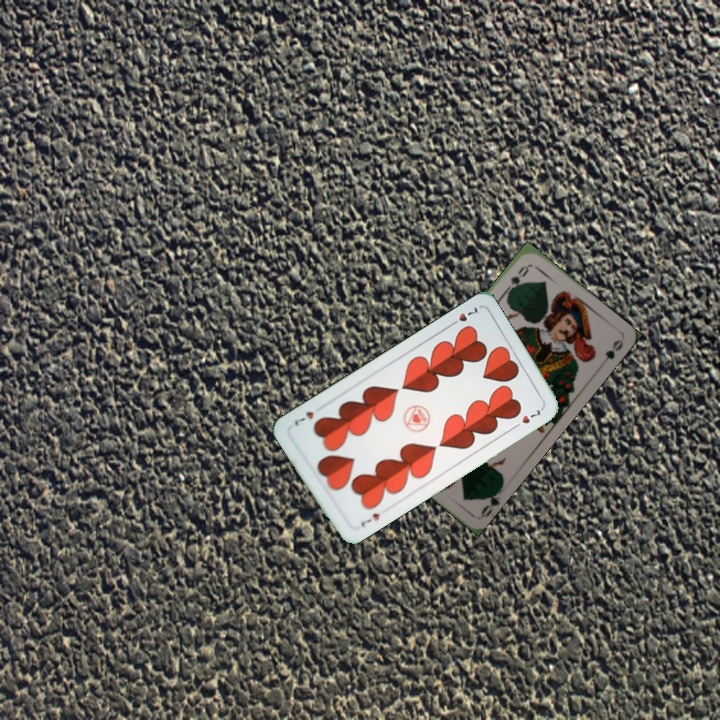GO: (501, 261, 532, 297), (477, 483, 505, 520)
H7: (445, 303, 480, 330), (357, 509, 382, 529)
